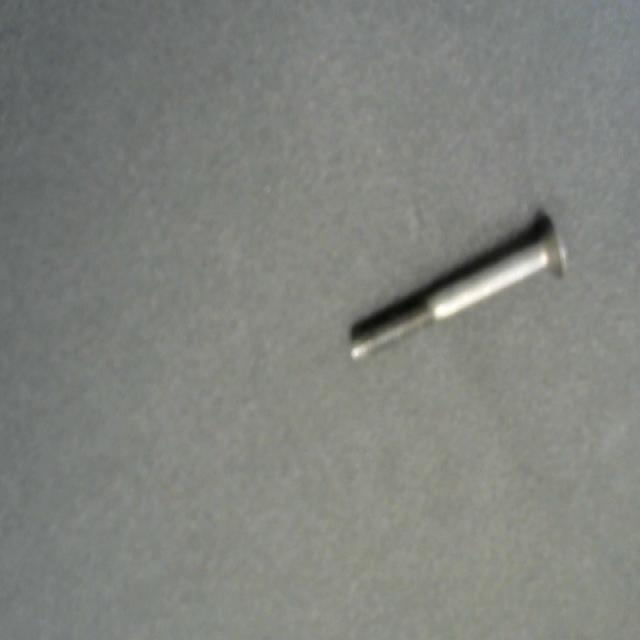FlatHeadSocketScrew: (343, 210, 575, 371)
